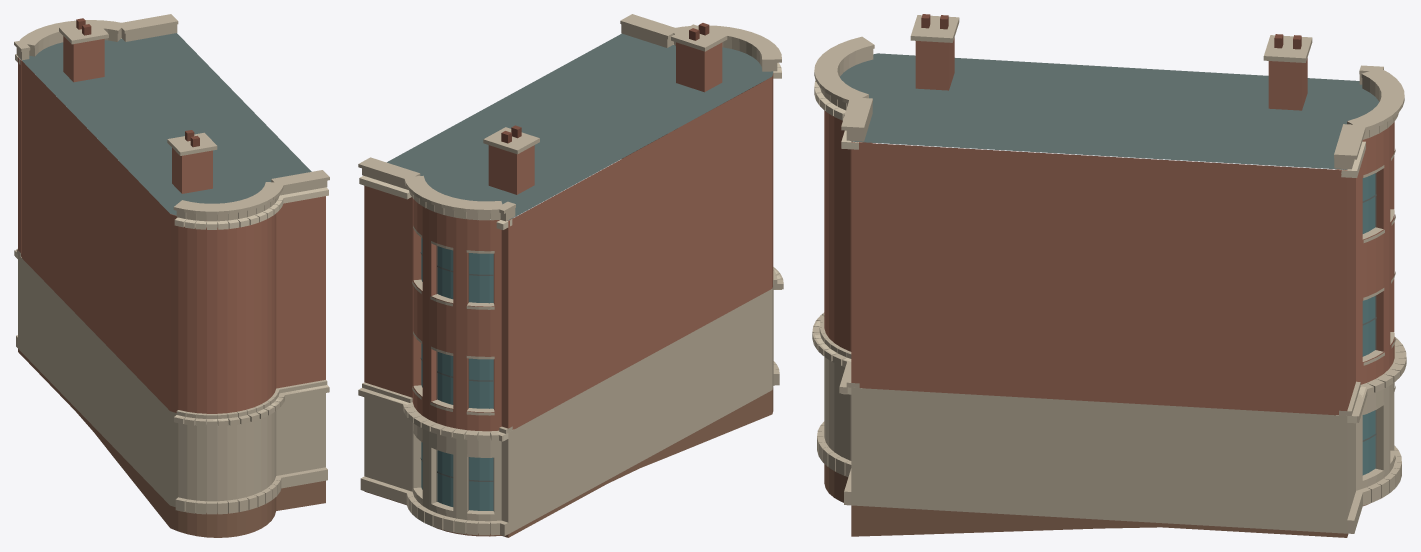
The model's file is bay-state-192.glb.
The picture shows the model from 3 angles, left to right: view 1: azimuth 30°, elevation 25°; view 2: azimuth 150°, elevation 25°; view 3: azimuth 270°, elevation 25°; orthographic projection. The views are drawn at different scales.
Visible parts, largest first — view 1: BU district -4:3:architecture:brick, BU district -4:3:architecture:stone, BU district -4:3:architecture:roof, BU district -4:3:architecture:brownstone, BU district -4:3:architecture:trim, BU district -4:3:architecture:brickDark; view 2: BU district -4:3:architecture:brick, BU district -4:3:architecture:stone, BU district -4:3:architecture:roof, BU district -4:3:architecture:glass, BU district -4:3:architecture:brownstone, BU district -4:3:architecture:trim, BU district -4:3:architecture:frame; view 3: BU district -4:3:architecture:brick, BU district -4:3:architecture:stone, BU district -4:3:architecture:roof, BU district -4:3:architecture:brownstone, BU district -4:3:architecture:glass, BU district -4:3:architecture:trim.
Part boxes in pixels (box(x1,y1,x2,y2)): BU district -4:3:architecture:brick: box(18, 36, 325, 413); BU district -4:3:architecture:stone: box(14, 14, 329, 514); BU district -4:3:architecture:roof: box(18, 33, 311, 215); BU district -4:3:architecture:brownstone: box(18, 349, 325, 537); BU district -4:3:architecture:trim: box(15, 38, 328, 426); BU district -4:3:architecture:brickDark: box(76, 18, 199, 147); BU district -4:3:architecture:brick: box(364, 42, 773, 431); BU district -4:3:architecture:stone: box(358, 14, 783, 536); BU district -4:3:architecture:roof: box(387, 33, 773, 220); BU district -4:3:architecture:glass: box(421, 238, 493, 510); BU district -4:3:architecture:brownstone: box(364, 387, 773, 537); BU district -4:3:architecture:trim: box(359, 44, 781, 441); BU district -4:3:architecture:frame: box(420, 246, 493, 511); BU district -4:3:architecture:brick: box(824, 37, 1394, 415); BU district -4:3:architecture:stone: box(812, 15, 1406, 533); BU district -4:3:architecture:roof: box(840, 53, 1379, 169); BU district -4:3:architecture:brownstone: box(824, 464, 1369, 537); BU district -4:3:architecture:glass: box(1362, 173, 1375, 475); BU district -4:3:architecture:trim: box(814, 80, 1365, 423).
Bounding box in the file's own units: 8.82 × 15.85 × 18.51.
